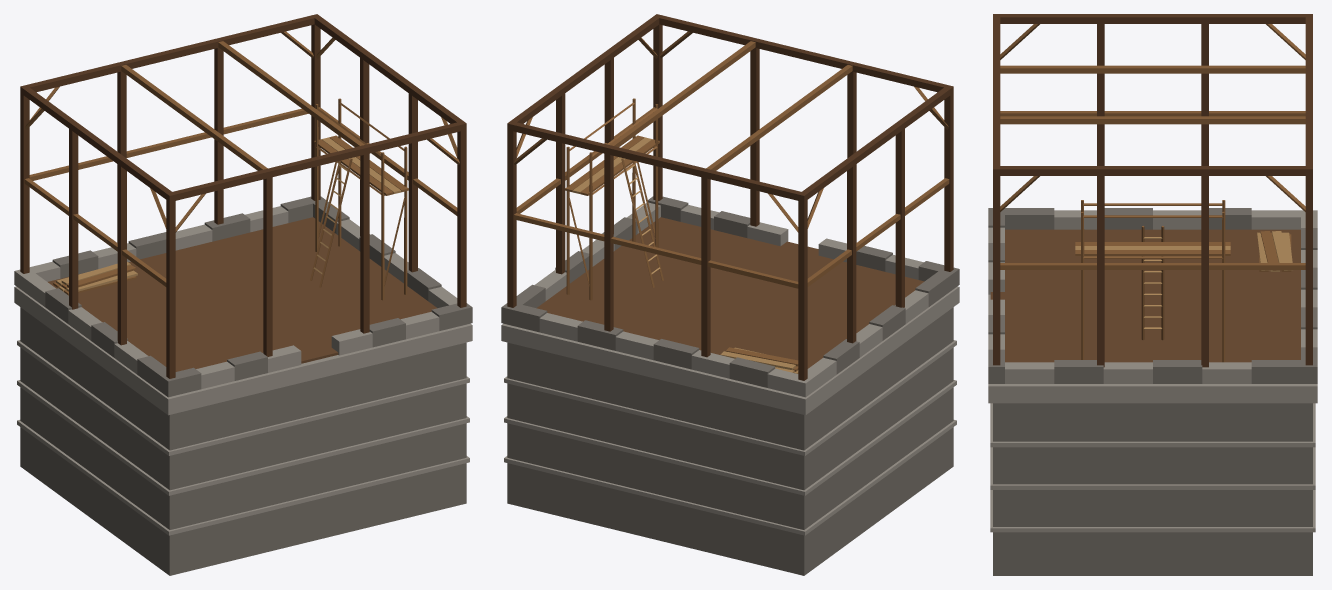
The model's file is site_8x7_2.glb.
The picture shows the model from 3 angles, left to right: view 1: azimuth 30°, elevation 25°; view 2: azimuth 150°, elevation 25°; view 3: azimuth 270°, elevation 25°; orthographic projection. The views are drawn at different scales.
Visible parts, largest first — view 1: site_8x7_2; view 2: site_8x7_2; view 3: site_8x7_2.
Boxes of the visible parts, bbox=[...] form: site_8x7_2: bbox=[14, 14, 472, 575]; site_8x7_2: bbox=[501, 14, 959, 575]; site_8x7_2: bbox=[988, 14, 1317, 575].
Size of the model in its own units: 8 by 9.55 by 7.
